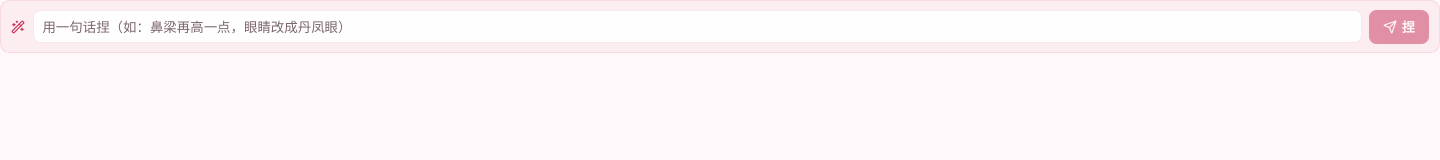
Test: FaceSculptInstruct › lists what the server did not understand
This screenshot has width=1440, height=160.
Type "眼睛大点，耳垂厚一点，有点像她妈" into the field labelled "用一句话捏".
click(697, 27); type("眼睛大点，耳垂厚一点，有点像她妈")  # box [33,10,1362,43]
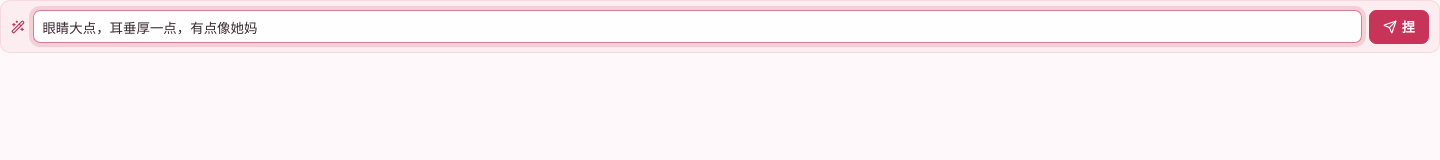
Click the button named "发送".
click(1399, 27)  # box [1369,10,1429,44]
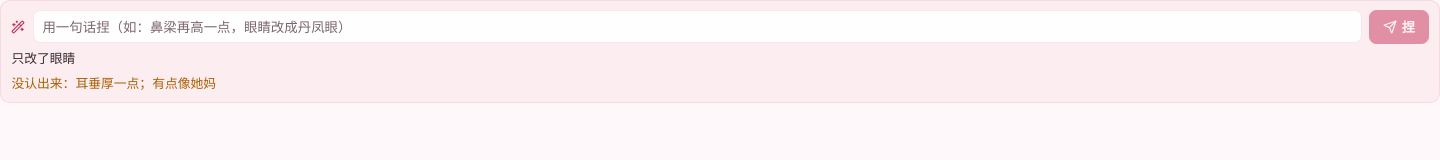
Now the text "没认出来：耳垂厚一点；有点像她妈" is shown, box [11,74,216,92]
